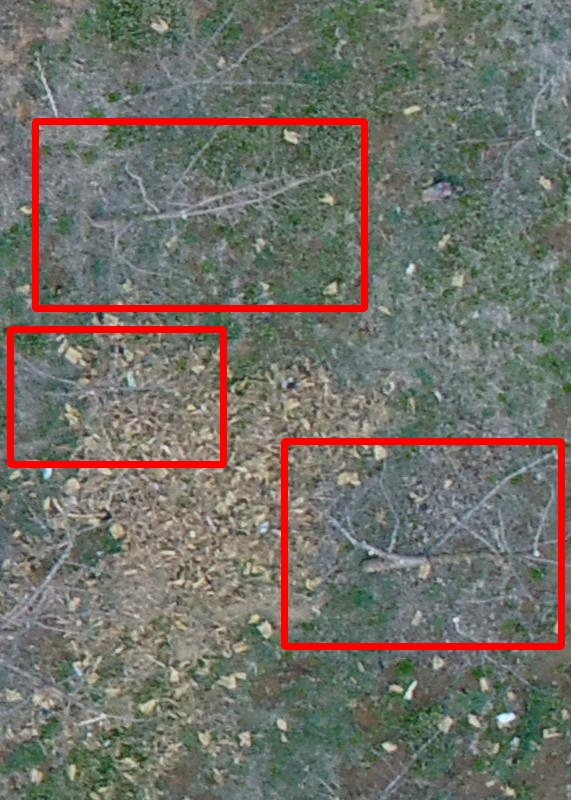apple: (35, 121, 364, 308), (284, 441, 561, 646), (10, 329, 223, 464)
